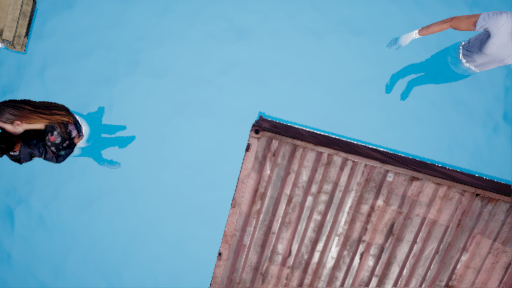person: (378, 3, 512, 102), (3, 98, 125, 180)
